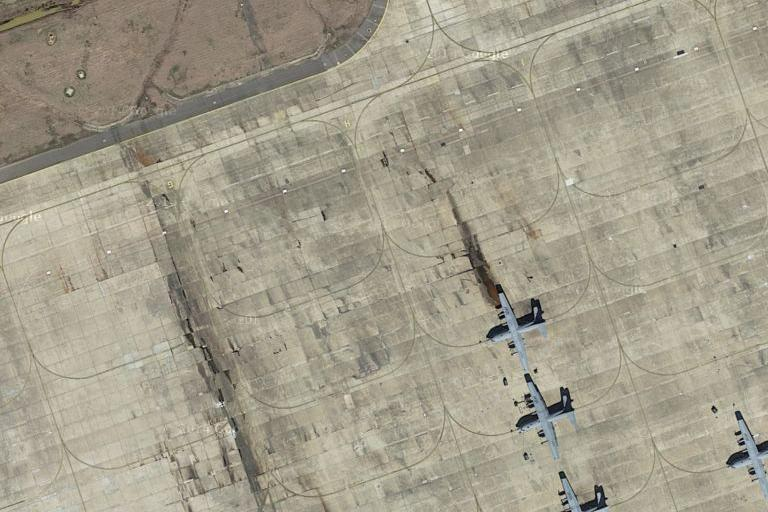C-130: (514, 375, 578, 457), (485, 291, 548, 372)
